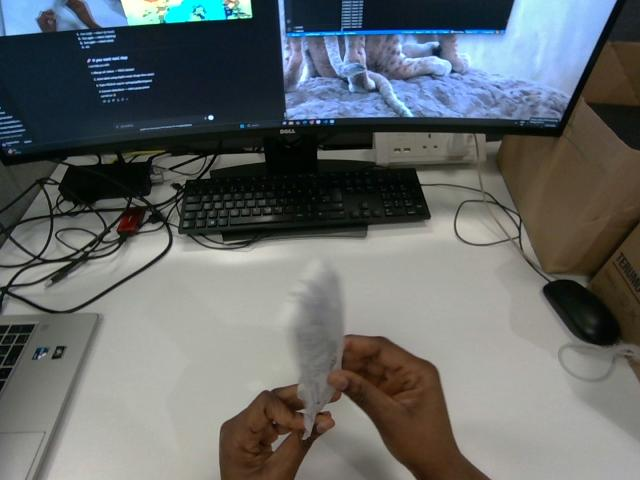syringe: (284, 258, 343, 438)
